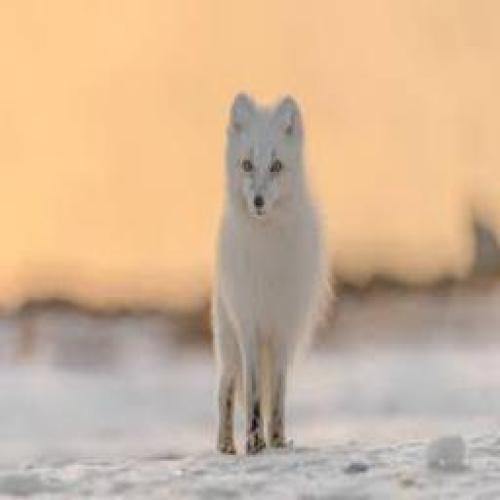arctic_fox-endangered: (218, 98, 324, 454)
